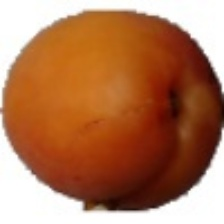apricot: (32, 38, 188, 205)
